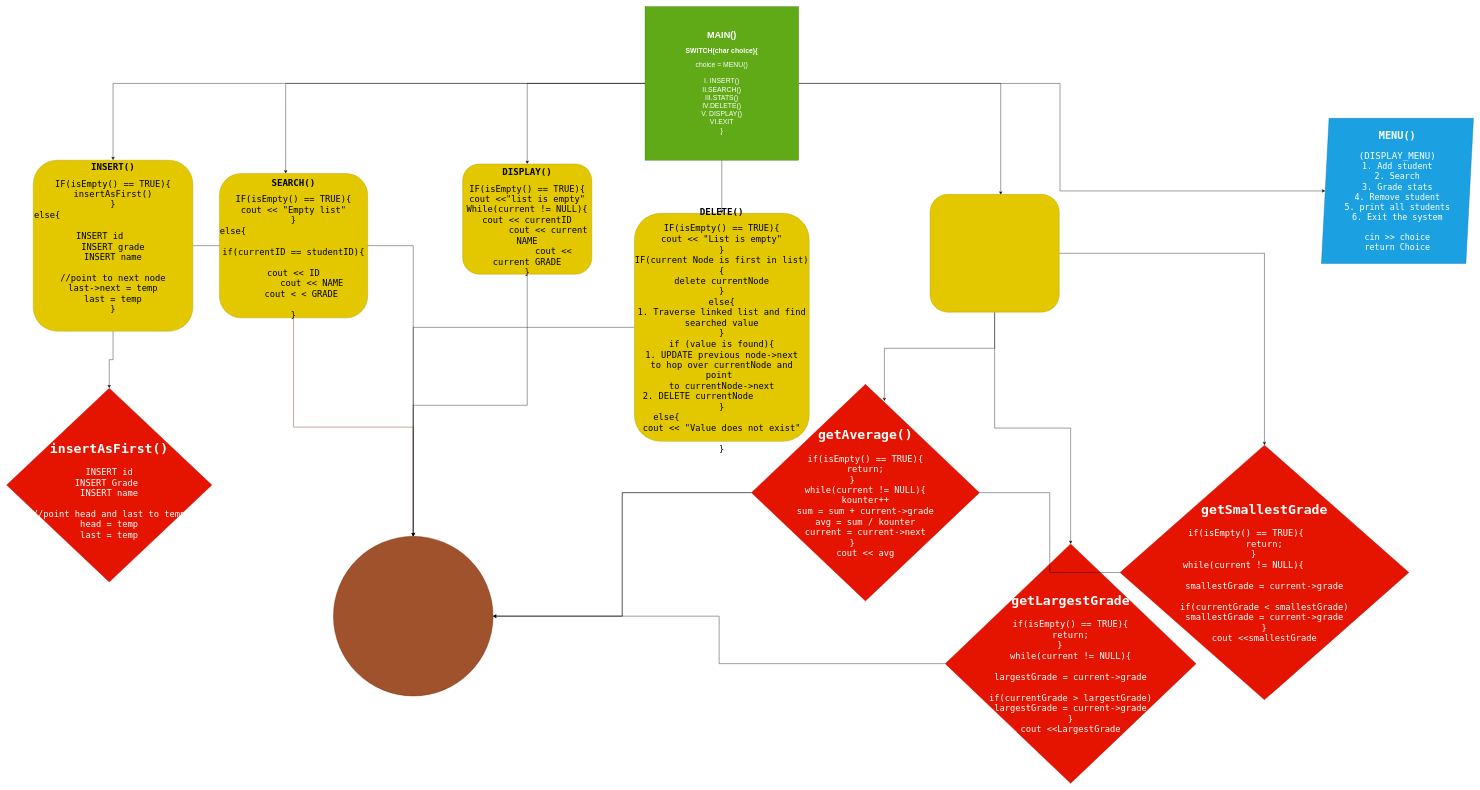
Image size: 1480x790. Some labels were removed from this diagram. Here are the shapes that lost their labels. From the top down, the centre of each, then its label:
(994,253): STATS() I. getAverage() II. getLargestGrade() III. getSmallestNum()
(413,616): isEmpty() if(head == NULL) return TRUE else return FALSE
